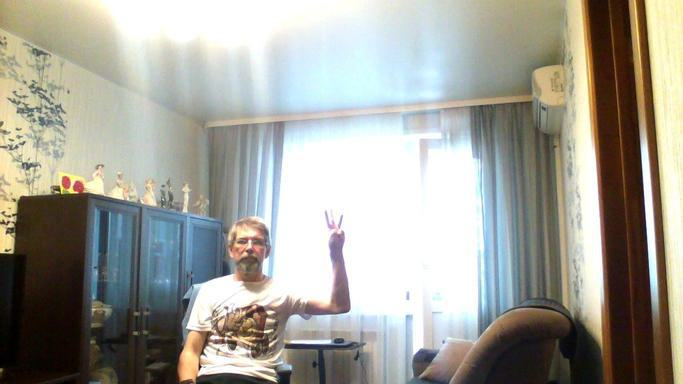three: (322, 205, 348, 254)
